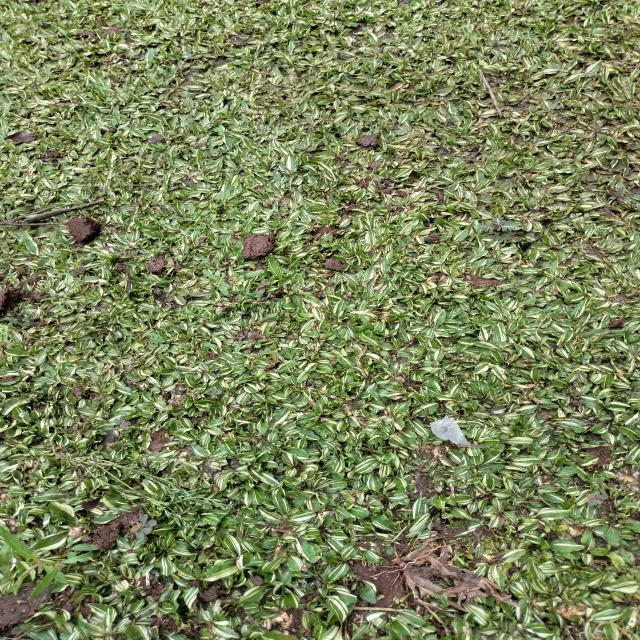bayi: (410, 224, 424, 230)
buah daun: (475, 215, 520, 246), (127, 512, 159, 540), (585, 490, 611, 511), (205, 388, 224, 400)
gingseng jawa: (0, 523, 103, 600)
rambat atas: (201, 267, 234, 301)
ungu tunggang: (6, 307, 40, 332)
